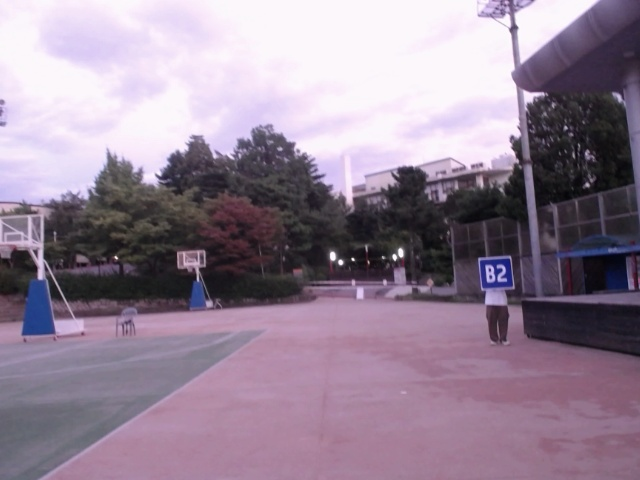delivery_b2: (476, 256, 517, 291)
